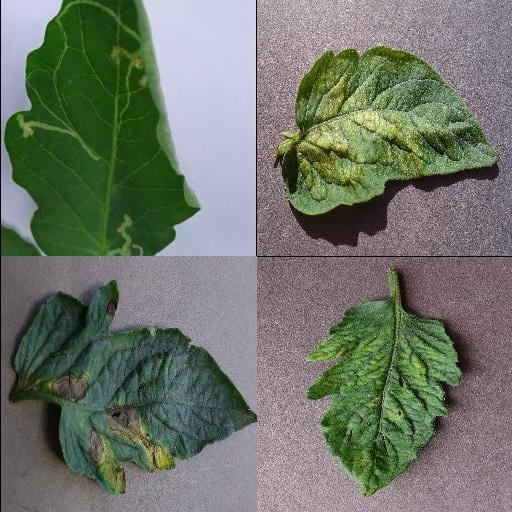Early Blight: (7, 279, 256, 494)
Leaf Miner: (4, 0, 200, 256)
Mosaic Virus: (303, 298, 461, 498)
Spider Mites: (281, 47, 499, 215)
